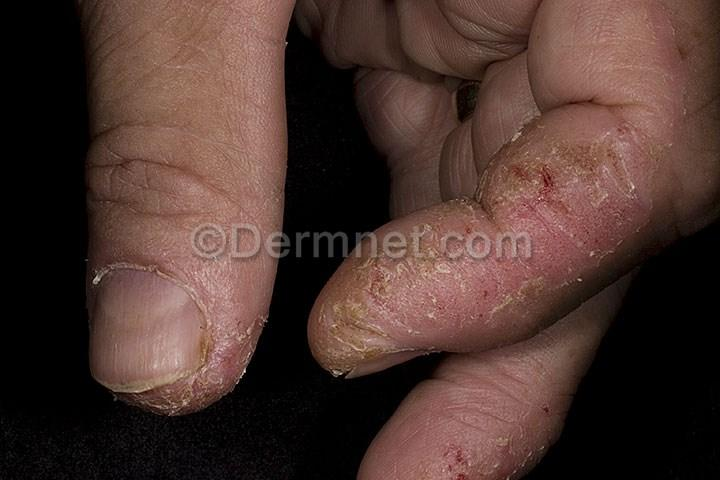Eczema: (507, 142, 643, 201), (316, 287, 409, 362), (486, 269, 558, 335), (202, 317, 252, 377), (156, 388, 215, 412)
